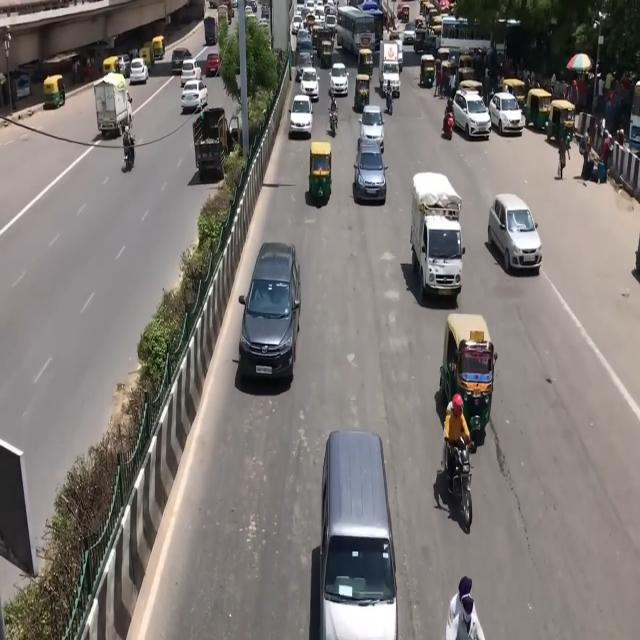auto: (442, 312, 496, 436), (308, 140, 332, 206), (546, 99, 576, 145), (525, 88, 552, 133), (501, 77, 527, 109), (43, 75, 65, 110), (353, 74, 371, 113), (420, 53, 436, 88), (440, 60, 457, 92), (458, 54, 476, 84), (358, 47, 373, 79), (459, 80, 483, 98), (430, 14, 444, 36), (437, 46, 451, 66)
bike-auto: (443, 394, 471, 483), (122, 123, 134, 171), (445, 96, 455, 146), (328, 91, 338, 128), (383, 78, 391, 112)
